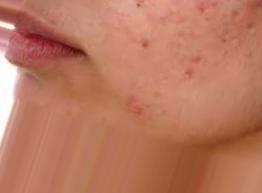Acne: (189, 0, 225, 30), (174, 55, 207, 87), (128, 32, 162, 61)
